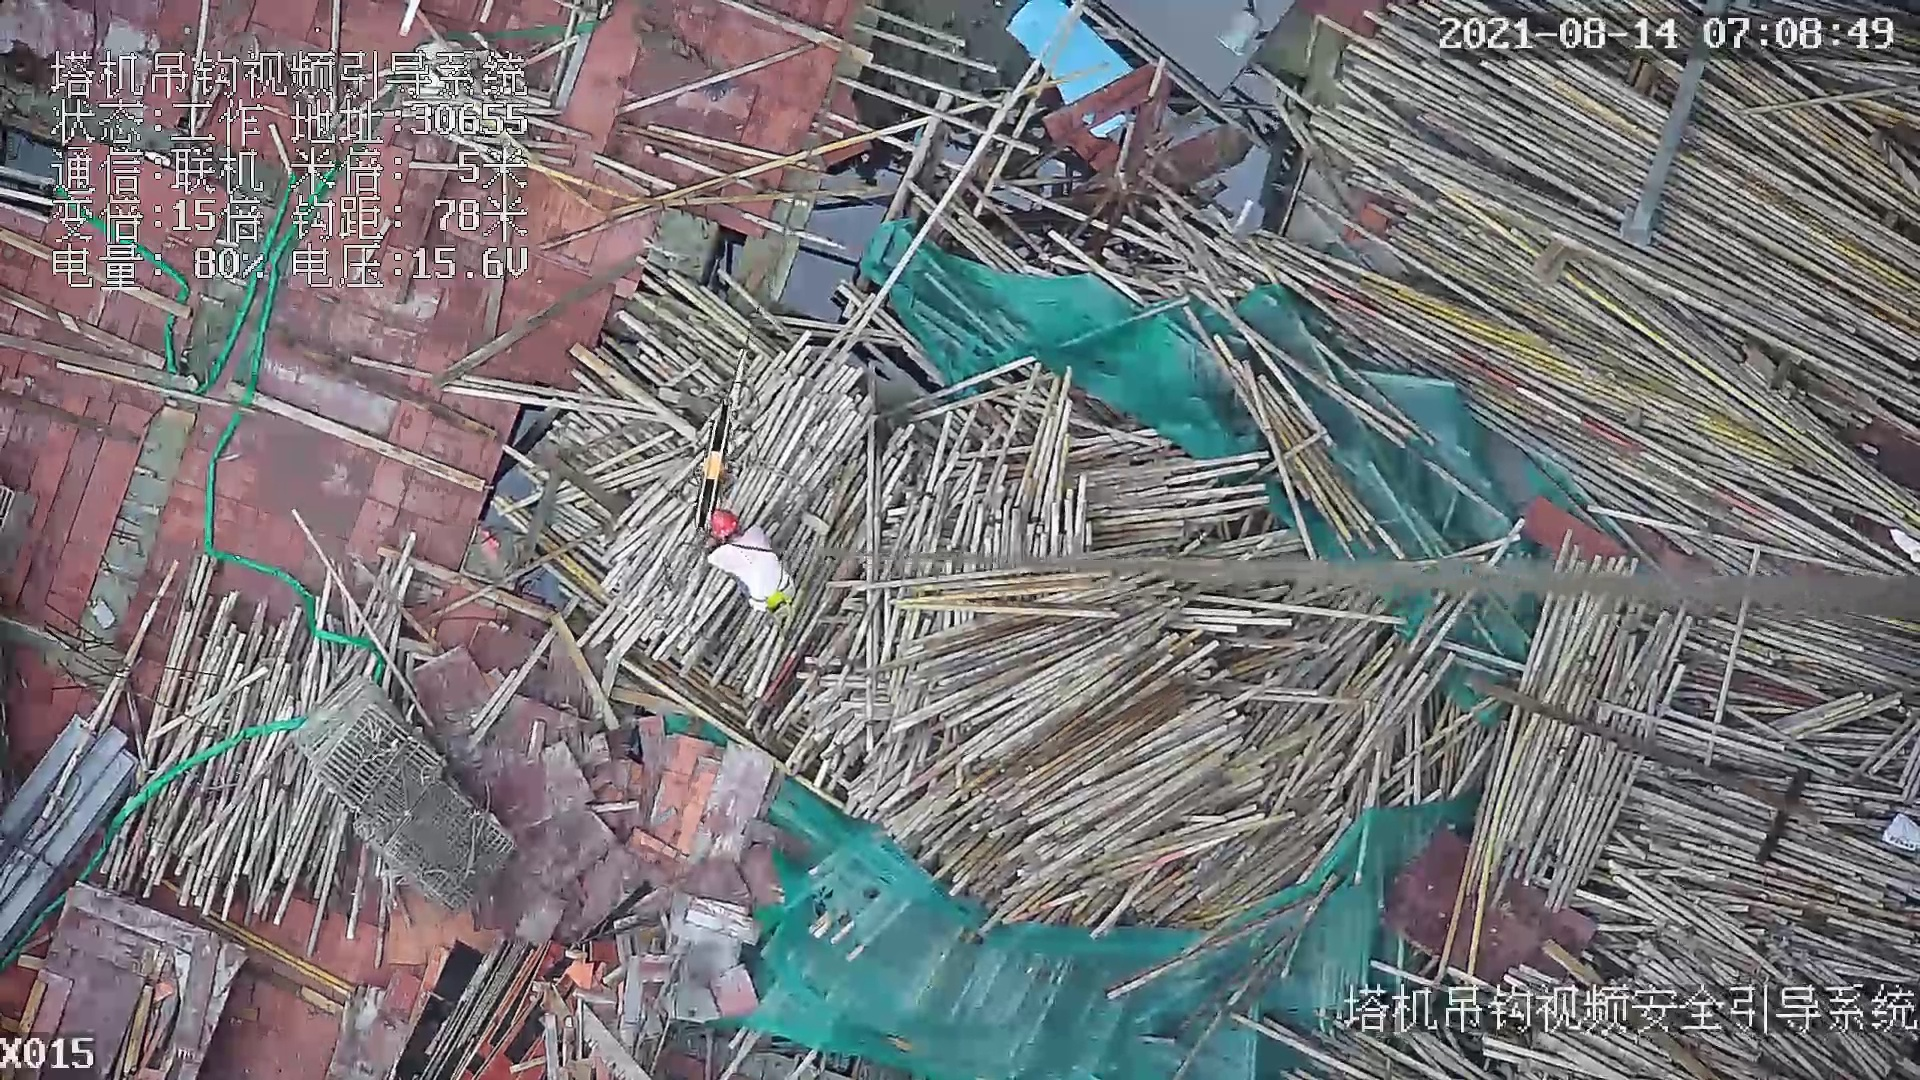helmet: (710, 508, 738, 542)
hook: (690, 399, 740, 536)
person: (712, 509, 810, 617)
